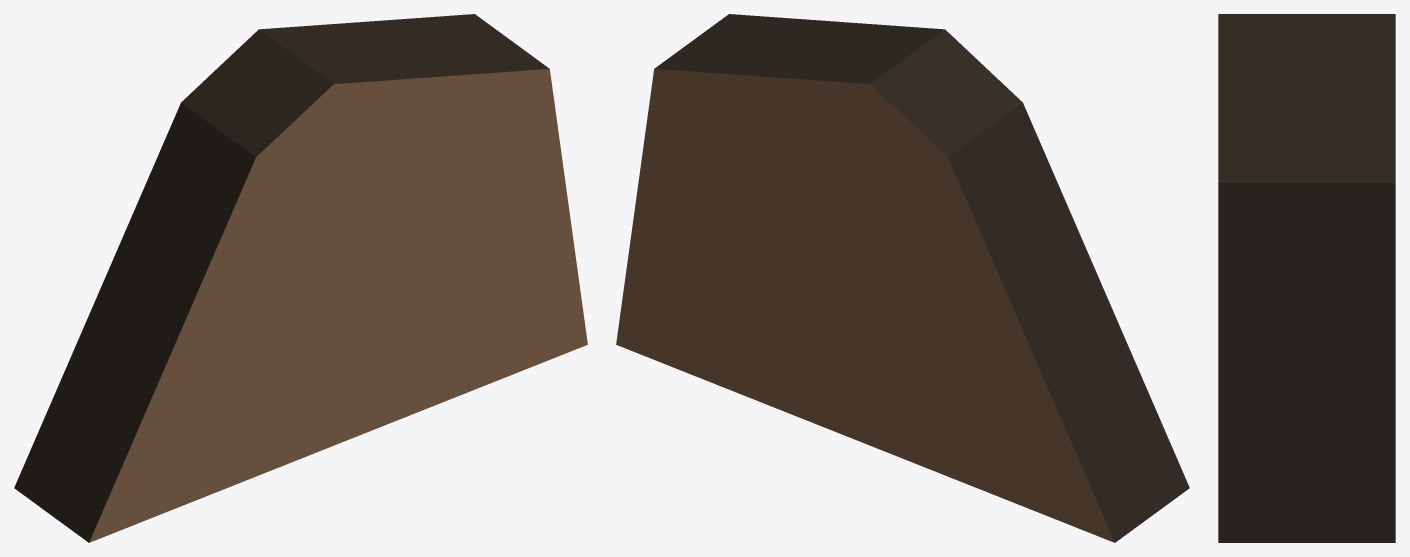
Rendered from SM_DoorShard_03_20.fbx.
The picture shows the model from 3 angles, left to right: view 1: azimuth 30°, elevation 25°; view 2: azimuth 150°, elevation 25°; view 3: azimuth 270°, elevation 25°; orthographic projection. The views are drawn at different scales.
Visible parts, largest first — view 1: SM_DoorShard_03_20; view 2: SM_DoorShard_03_20; view 3: SM_DoorShard_03_20.
Part boxes in pixels (bbox=[...]): SM_DoorShard_03_20: bbox=[14, 14, 587, 542]; SM_DoorShard_03_20: bbox=[616, 14, 1189, 542]; SM_DoorShard_03_20: bbox=[1218, 14, 1395, 542].
Bounding box in the file's own units: 61.48 × 16 × 46.99.
